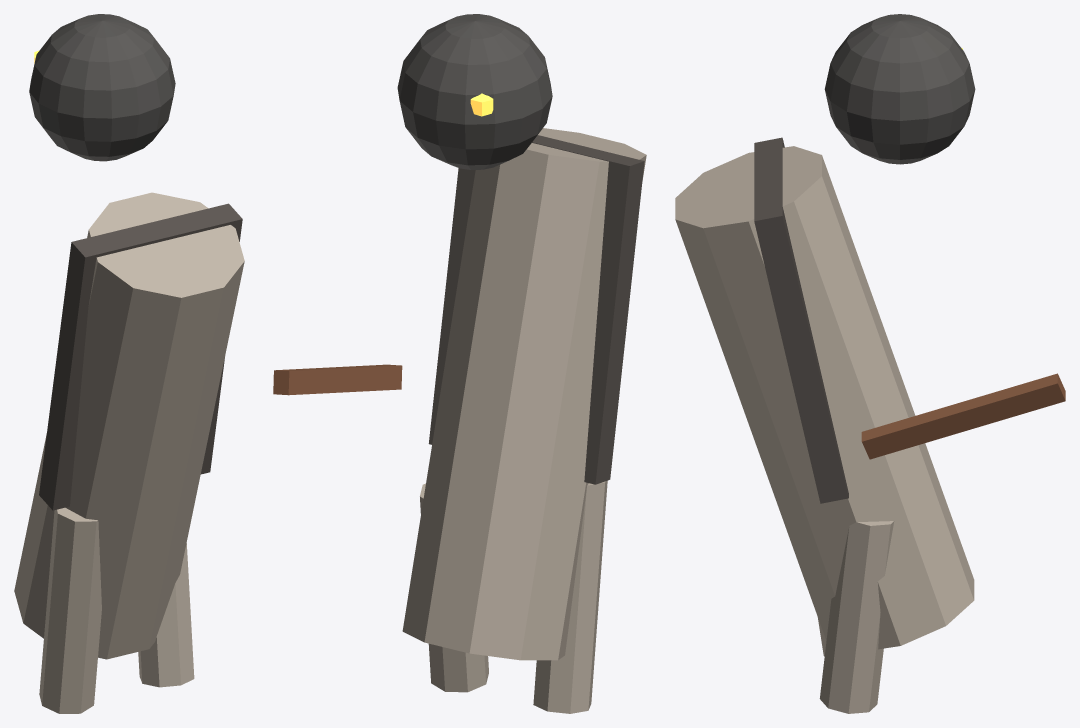
File: ash_hollow.glb
3 views of the same model, side by side, from view 1: azimuth 30°, elevation 25°; view 2: azimuth 150°, elevation 25°; view 3: azimuth 270°, elevation 25° (orthographic). The views are drawn at different scales.
Parts seen in each view (by area): view 1: ash_hollow; view 2: ash_hollow; view 3: ash_hollow.
Boxes of the visible parts, x1,y1,x2,y2 form: ash_hollow: (14, 14, 244, 713); ash_hollow: (273, 14, 646, 713); ash_hollow: (675, 14, 1065, 713).
Size of the model in its own units: 0.4087 by 1.27 by 0.6739.
